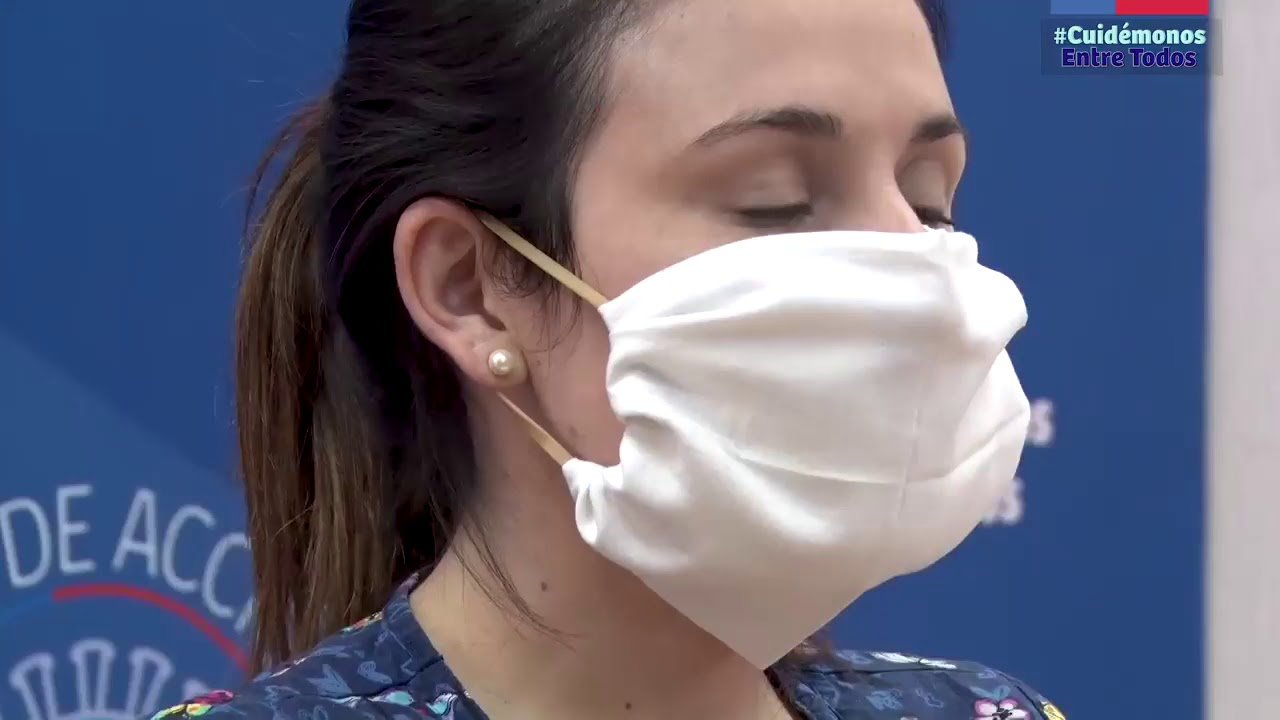with_mask: (370, 1, 1046, 663)
